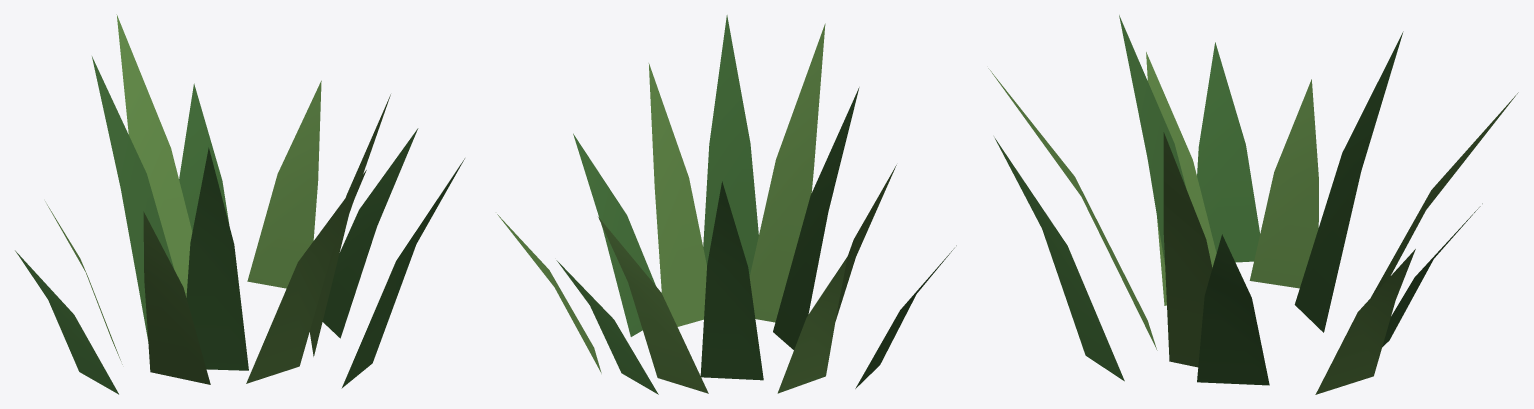
Rendered from dalat_hill_grass_tuft.glb.
3 renders of one model, left to right at view 1: azimuth 30°, elevation 25°; view 2: azimuth 150°, elevation 25°; view 3: azimuth 270°, elevation 25°, orthographic. The views are drawn at different scales.
Visible parts, largest first — view 1: blade_4, blade_11, blade_9, blade_5, blade_3, blade_8, blade_0, blade_2, blade_10, blade_6, blade_1; view 2: blade_3, blade_1, blade_8, blade_2, blade_4, blade_9, blade_7, blade_0, blade_10, blade_5, blade_6, blade_11; view 3: blade_7, blade_6, blade_1, blade_0, blade_8, blade_11, blade_2, blade_4, blade_5, blade_3, blade_9, blade_10.
Boxes of the visible parts, <box> form: blade_4: <box>186,147,248,370</box>; blade_11: <box>247,80,321,288</box>; blade_9: <box>116,14,192,297</box>; blade_5: <box>143,211,210,384</box>; blade_3: <box>246,170,366,383</box>; blade_8: <box>92,56,174,340</box>; blade_0: <box>322,128,418,338</box>; blade_2: <box>341,158,464,388</box>; blade_10: <box>179,83,229,231</box>; blade_6: <box>15,250,118,394</box>; blade_1: <box>309,94,390,356</box>; blade_3: <box>749,23,825,322</box>; blade_1: <box>648,63,706,326</box>; blade_8: <box>700,181,763,380</box>; blade_2: <box>703,15,758,276</box>; blade_4: <box>773,87,859,349</box>; blade_9: <box>598,217,708,393</box>; blade_7: <box>777,256,847,393</box>; blade_0: <box>573,133,655,336</box>; blade_10: <box>556,260,658,394</box>; blade_5: <box>835,165,896,320</box>; blade_6: <box>855,245,956,388</box>; blade_11: <box>497,214,601,373</box>; blade_7: <box>1249,79,1318,288</box>; blade_6: <box>1197,42,1259,262</box>; blade_1: <box>1163,132,1212,367</box>; blade_0: <box>1197,234,1269,385</box>; blade_8: <box>1294,31,1403,332</box>; blade_11: <box>1315,249,1415,394</box>; blade_2: <box>994,137,1124,381</box>; blade_4: <box>1119,15,1186,265</box>; blade_5: <box>1146,52,1216,305</box>; blade_3: <box>988,68,1157,350</box>; blade_9: <box>1371,92,1518,297</box>; blade_10: <box>1382,203,1482,347</box>.
Size of the model in its own units: 0.9028 by 0.5484 by 0.946.
